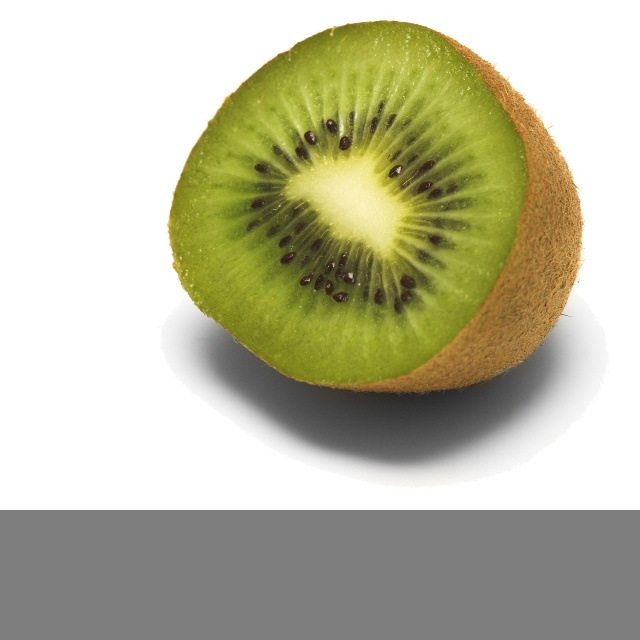kiwi: (170, 19, 589, 402)
